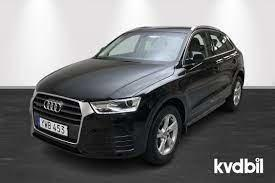license-plates: (40, 119, 68, 136)
